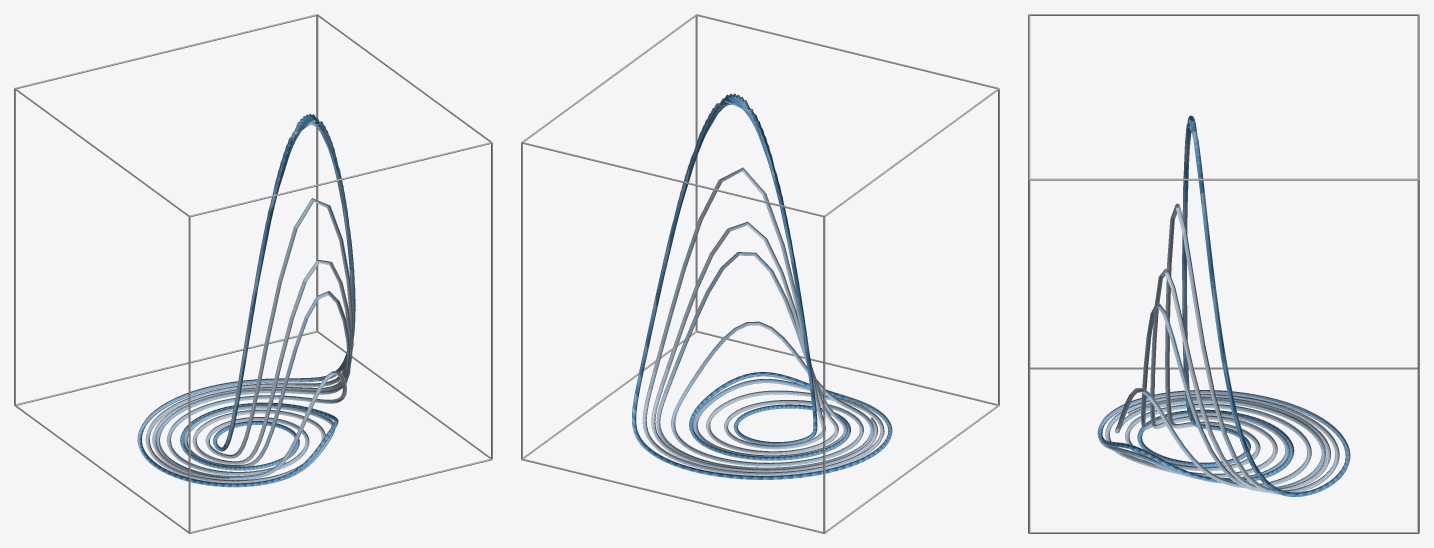
The model's file is rossler.glb.
3 renders of one model, left to right at view 1: azimuth 30°, elevation 25°; view 2: azimuth 150°, elevation 25°; view 3: azimuth 270°, elevation 25°, orthographic. The views are drawn at different scales.
Parts seen in each view (by area): view 1: geometry_0, geometry_1; view 2: geometry_0, geometry_1; view 3: geometry_0, geometry_1.
Part boxes in pixels (left/top/right/bottom): geometry_0: left=137, top=114, right=355, bottom=487; geometry_1: left=14, top=14, right=492, bottom=533; geometry_0: left=632, top=93, right=892, bottom=479; geometry_1: left=521, top=14, right=999, bottom=533; geometry_0: left=1097, top=115, right=1350, bottom=496; geometry_1: left=1028, top=14, right=1419, bottom=533.
Bounding box in the file's own units: 0.3016 × 0.3036 × 0.3016.
